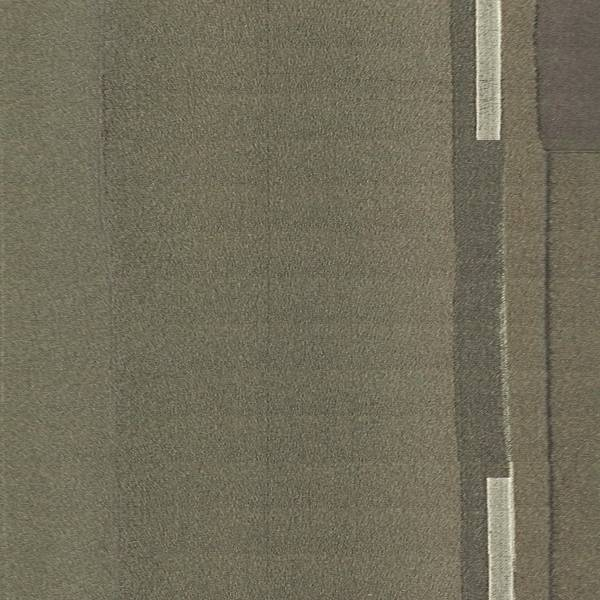road_damage: (527, 1, 561, 600), (87, 65, 114, 224)
